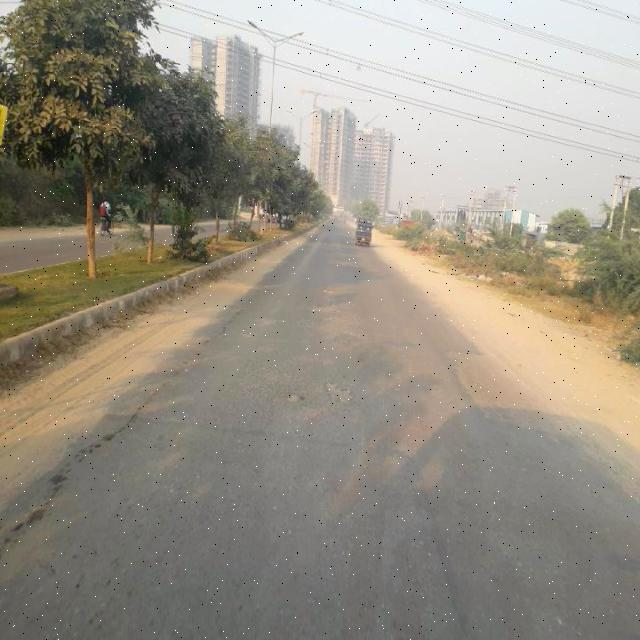D20: (234, 357, 370, 428)
D40: (322, 373, 357, 410), (277, 377, 311, 413), (311, 281, 345, 317)
